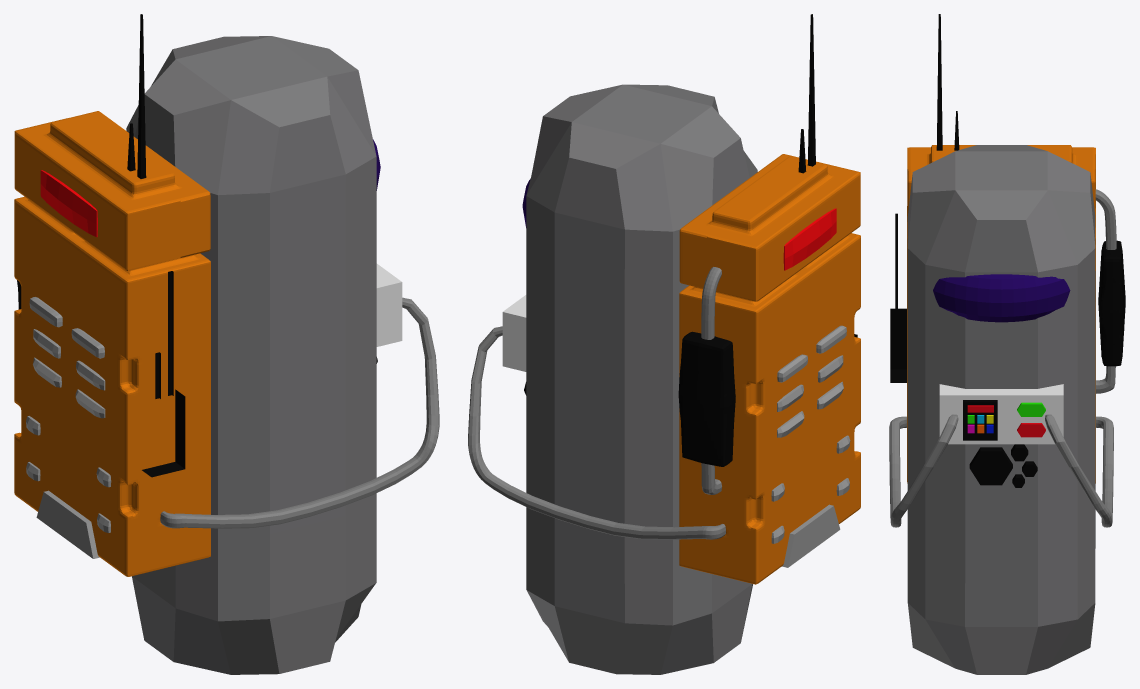
Rendered from AstroAlien_vR1.fbx.
The picture shows the model from 3 angles, left to right: view 1: azimuth 30°, elevation 25°; view 2: azimuth 150°, elevation 25°; view 3: azimuth 270°, elevation 25°; orthographic projection. The views are drawn at different scales.
Visible parts, largest first — view 1: Body, Backpack, Oxygen, Phone, Backpack_Buttons.001, ChestPiece, Backpack_Flag.001, Backpack_Buttons.002, Backpack_Buttons, Backpack_Antena.001, Backpack_Buttons.003; view 2: Body, Backpack, O2_Tank, Oxygen, Backpack_Buttons.001, ChestPiece, Backpack_Flag.001, Oxygen.001, Backpack_Buttons.002, Backpack_Antena.001, Backpack_Buttons, Backpack_Buttons.003; view 3: Body, Glasses, Oxygen, ChestPiece, O2_Tank, Backpack, Phone, Buttons, Oxygen.001, Computer, Backpack_Antena.001, Cylinder.004 (+1 smaller).
Boxes of the visible parts, x1=… form: Body: x1=126, y1=36, x2=376, y2=674; Backpack: x1=14, y1=111, x2=210, y2=576; Oxygen: x1=160, y1=297, x2=439, y2=528; Phone: x1=142, y1=271, x2=185, y2=477; Backpack_Buttons.001: x1=36, y1=490, x2=99, y2=558; ChestPiece: x1=376, y1=263, x2=402, y2=346; Backpack_Flag.001: x1=40, y1=170, x2=97, y2=237; Backpack_Buttons.002: x1=26, y1=329, x2=111, y2=532; Backpack_Buttons: x1=29, y1=297, x2=104, y2=358; Backpack_Antena.001: x1=137, y1=14, x2=146, y2=178; Backpack_Buttons.003: x1=33, y1=357, x2=105, y2=418; Body: x1=526, y1=84, x2=757, y2=674; Backpack: x1=679, y1=154, x2=860, y2=584; O2_Tank: x1=678, y1=331, x2=735, y2=466; Oxygen: x1=468, y1=326, x2=725, y2=539; Backpack_Buttons.001: x1=782, y1=504, x2=840, y2=567; ChestPiece: x1=502, y1=295, x2=526, y2=371; Backpack_Flag.001: x1=783, y1=208, x2=836, y2=270; Oxygen.001: x1=701, y1=267, x2=721, y2=494; Backpack_Buttons.002: x1=771, y1=355, x2=850, y2=543; Backpack_Antena.001: x1=807, y1=14, x2=815, y2=166; Backpack_Buttons: x1=777, y1=325, x2=846, y2=382; Backpack_Buttons.003: x1=777, y1=381, x2=843, y2=437; Body: x1=907, y1=145, x2=1095, y2=674; Glasses: x1=933, y1=274, x2=1070, y2=322; Oxygen: x1=889, y1=414, x2=1113, y2=527; ChestPiece: x1=939, y1=384, x2=1063, y2=444; O2_Tank: x1=1098, y1=240, x2=1125, y2=366; Backpack: x1=907, y1=145, x2=1095, y2=483; Phone: x1=890, y1=213, x2=906, y2=382; Buttons: x1=969, y1=447, x2=1012, y2=485; Oxygen.001: x1=1095, y1=189, x2=1116, y2=393; Computer: x1=963, y1=400, x2=997, y2=440; Backpack_Antena.001: x1=936, y1=14, x2=942, y2=150; Cylinder.004: x1=1017, y1=423, x2=1045, y2=437.
Bounding box in the file's own units: 114 × 229 × 85.21.
